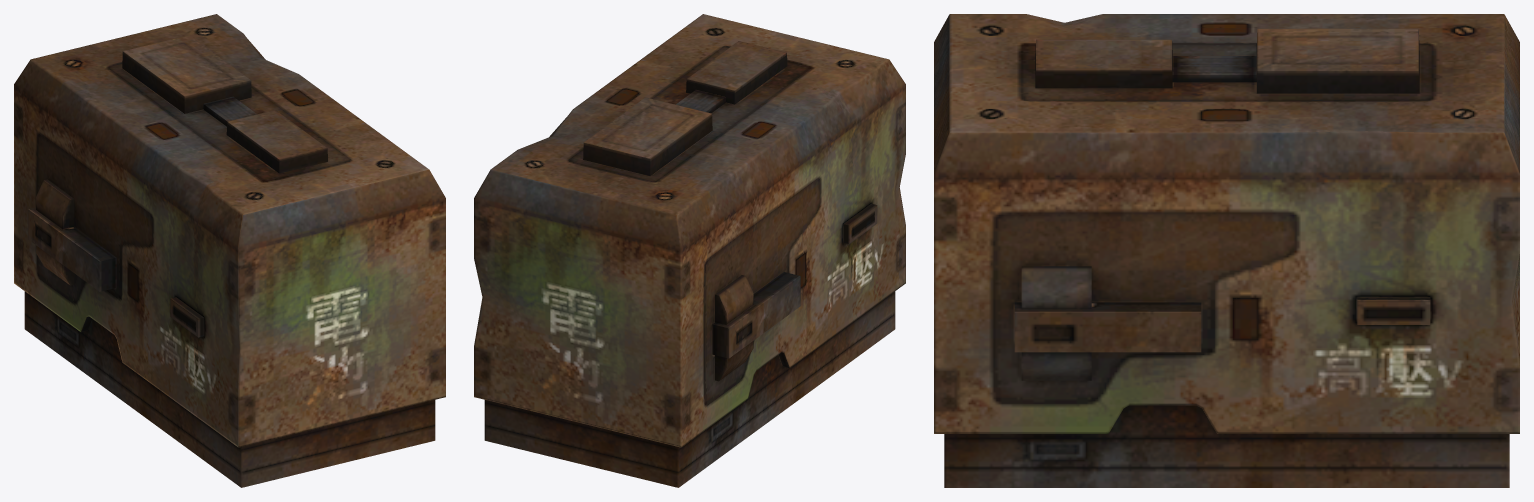
File: battery_computer_table_broken.DAE
The picture shows the model from 3 angles, left to right: view 1: azimuth 30°, elevation 25°; view 2: azimuth 150°, elevation 25°; view 3: azimuth 270°, elevation 25°; orthographic projection. The views are drawn at different scales.
Parts seen in each view (by area): view 1: battery_computer_table_broken; view 2: battery_computer_table_broken; view 3: battery_computer_table_broken.
Part boxes in pixels (bbox=[...]): battery_computer_table_broken: bbox=[14, 14, 445, 487]; battery_computer_table_broken: bbox=[474, 14, 905, 487]; battery_computer_table_broken: bbox=[934, 14, 1519, 487].
Bounding box in the file's own units: 18.58 × 30 × 21.24.
